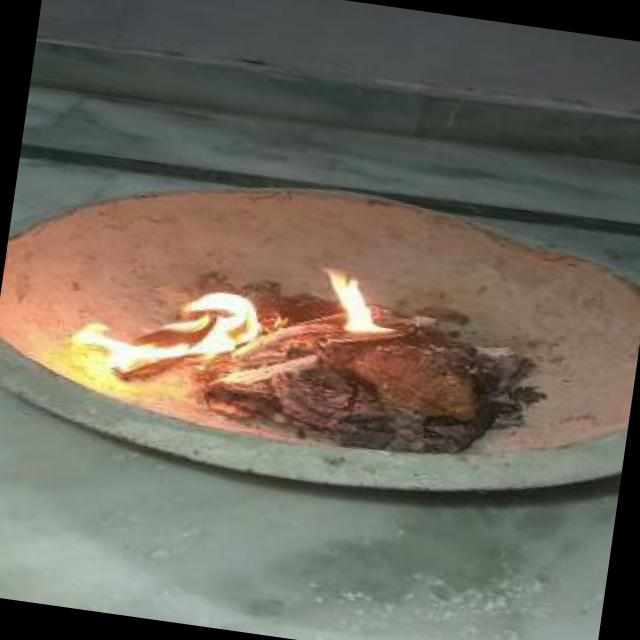fire: (64, 266, 271, 394), (304, 262, 409, 342)
